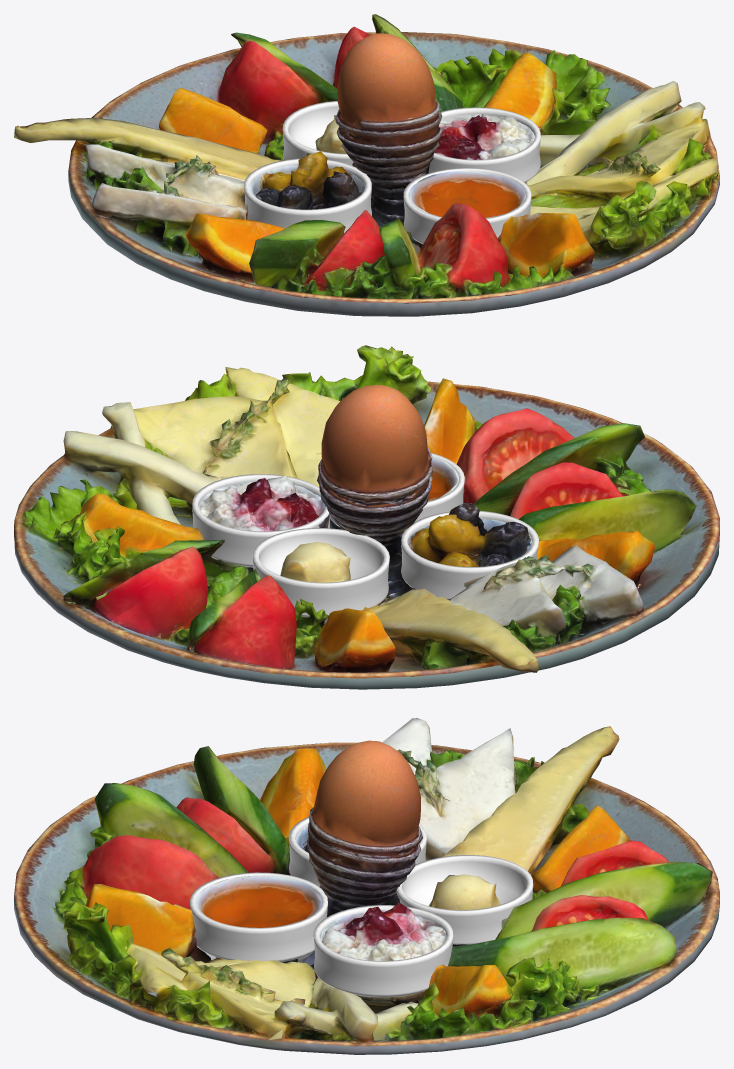
File: breakfast.glb
3 renders of one model, top to bottom at view 1: azimuth 30°, elevation 25°; view 2: azimuth 150°, elevation 25°; view 3: azimuth 270°, elevation 25°, orthographic. The views are drawn at different scales.
Visible parts, largest first — view 1: 4.001_object.004, KaseBuyuk.010_Cylinder.024, KaseBuyuk.008_Cylinder.022, KaseBuyuk.007_Cylinder.021, KaseBuyuk.009_Cylinder.023, KaseBuyuk.005_Cylinder.001; view 2: 4.001_object.004, KaseBuyuk.007_Cylinder.021, KaseBuyuk.010_Cylinder.024, KaseBuyuk.005_Cylinder.001, KaseBuyuk.008_Cylinder.022, KaseBuyuk.009_Cylinder.023; view 3: 4.001_object.004, KaseBuyuk.007_Cylinder.021, KaseBuyuk.010_Cylinder.024, KaseBuyuk.009_Cylinder.023, KaseBuyuk.008_Cylinder.022.
Boxes of the visible parts, left/top/right/bottom form: 4.001_object.004: left=14, top=14, right=719, bottom=316; KaseBuyuk.010_Cylinder.024: left=428, top=107, right=540, bottom=182; KaseBuyuk.008_Cylinder.022: left=244, top=158, right=371, bottom=232; KaseBuyuk.007_Cylinder.021: left=282, top=101, right=353, bottom=165; KaseBuyuk.009_Cylinder.023: left=403, top=167, right=531, bottom=244; KaseBuyuk.005_Cylinder.001: left=261, top=162, right=370, bottom=211; 4.001_object.004: left=14, top=345, right=719, bottom=689; KaseBuyuk.007_Cylinder.021: left=253, top=528, right=389, bottom=623; KaseBuyuk.010_Cylinder.024: left=192, top=474, right=330, bottom=567; KaseBuyuk.005_Cylinder.001: left=402, top=511, right=538, bottom=591; KaseBuyuk.008_Cylinder.022: left=401, top=519, right=538, bottom=599; KaseBuyuk.009_Cylinder.023: left=330, top=453, right=464, bottom=526; 4.001_object.004: left=14, top=718, right=719, bottom=1054; KaseBuyuk.007_Cylinder.021: left=396, top=855, right=533, bottom=944; KaseBuyuk.010_Cylinder.024: left=313, top=905, right=453, bottom=997; KaseBuyuk.009_Cylinder.023: left=190, top=872, right=327, bottom=962; KaseBuyuk.008_Cylinder.022: left=288, top=818, right=426, bottom=886.
Size of the model in its own units: 0.301 by 0.0955 by 0.301.
Materials: 6 (1 with a texture image).
